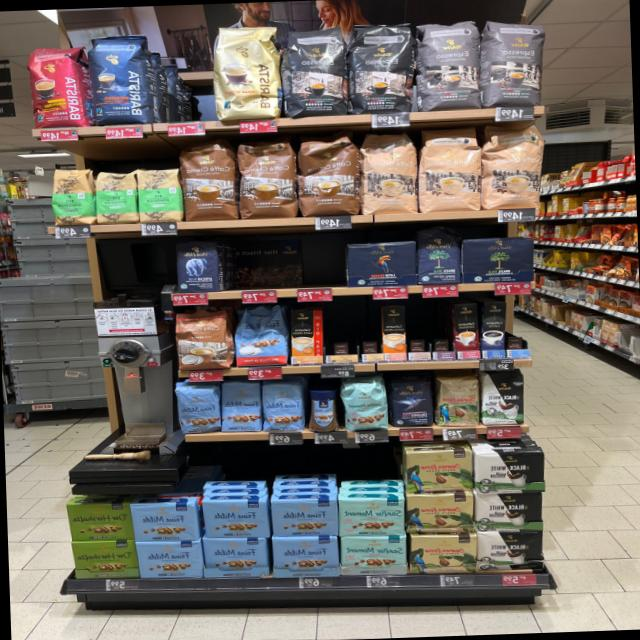AB Bohne: (174, 238, 221, 293)
Athiopien Bohne: (48, 167, 94, 226)
Athiopien Gemahlen: (136, 165, 180, 222), (94, 168, 138, 224)
BM Bohne: (416, 227, 462, 284)
BM Gemahlen: (460, 236, 536, 284)
BW Bohne: (480, 372, 526, 426)
BW Gemahlen: (474, 449, 546, 493), (474, 491, 543, 533), (476, 530, 543, 571)
Barista CB: (212, 25, 280, 120)
Barista Espresso: (86, 30, 153, 124)
Barista Kolumbien: (25, 40, 86, 126)
C Fino Bohne: (391, 379, 434, 426)
CC Mild: (481, 123, 548, 211), (417, 124, 480, 212), (360, 128, 420, 214)
CC Vollmundig: (176, 308, 230, 372)
CC Vollmundig 36 Pads: (296, 131, 360, 216), (236, 136, 297, 220), (178, 136, 236, 220)
Colombia BB Bohne: (435, 373, 480, 427)
Colombia BB Gemahlen: (404, 448, 474, 493), (405, 492, 475, 534), (408, 534, 478, 574)
Empty Shelf: (222, 238, 342, 292), (152, 27, 214, 122), (322, 305, 358, 356), (429, 304, 453, 352), (358, 306, 382, 354), (506, 298, 528, 349), (406, 303, 428, 352)
Espresso Aromatisch: (414, 18, 484, 109), (481, 18, 548, 105)
Espresso Kraftig: (346, 22, 415, 112), (280, 24, 347, 116)
FM 36 Pads: (233, 304, 288, 368)
FM Bohne: (174, 384, 220, 434), (260, 380, 304, 432), (220, 381, 260, 434)
FM Gemahlen: (271, 535, 340, 578), (270, 496, 338, 537), (130, 501, 198, 542), (202, 537, 267, 578), (202, 499, 268, 538), (137, 540, 201, 580)
FM Instant: (306, 385, 340, 434)
Herzhatfe Mundig: (70, 538, 136, 581), (65, 500, 131, 543)
LG Gemahlen: (346, 238, 416, 287)
SM Bohne: (342, 382, 386, 431)
SM Gemahlen: (340, 534, 408, 576), (338, 496, 406, 536)
Simo CCVollmundig: (290, 308, 322, 365)
Simo CCVollmundig bigpack: (382, 305, 407, 361)
Simo Es Caramel: (454, 302, 479, 358)
Simo Es Kraft: (480, 301, 508, 359)
